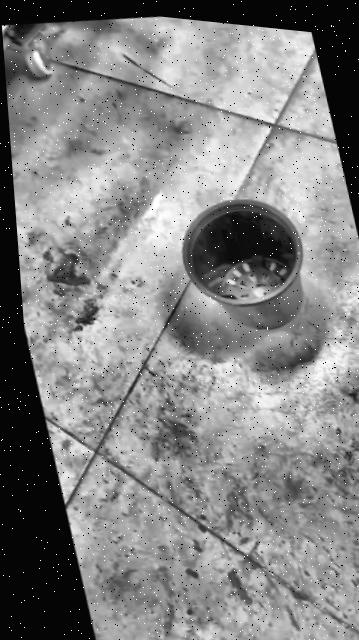pot: (167, 183, 320, 344)
